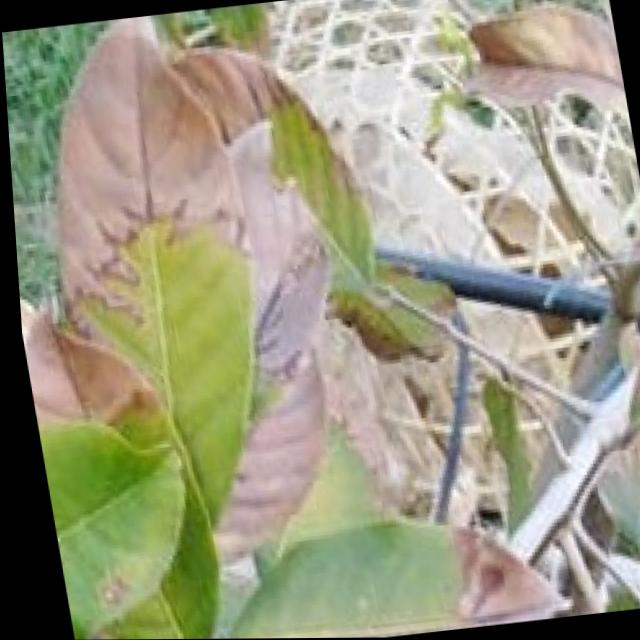Leaf Blight: (14, 261, 434, 584), (0, 0, 382, 308), (446, 0, 640, 216), (385, 466, 626, 634)
